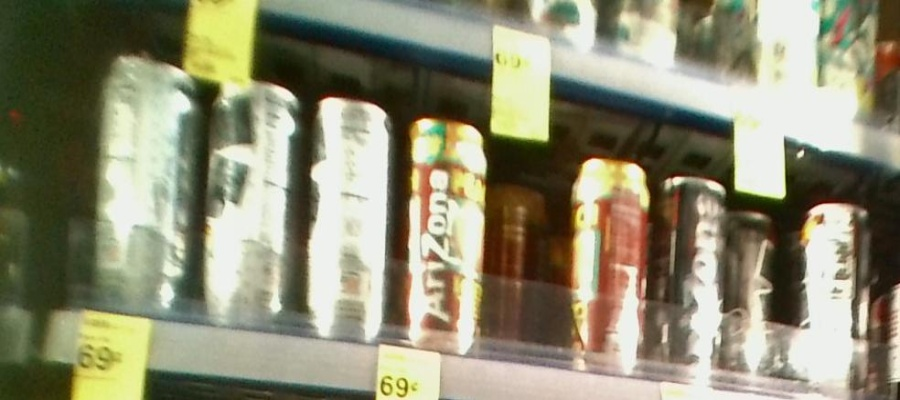bottle: (91, 51, 197, 319), (202, 56, 302, 324), (304, 73, 393, 336), (397, 106, 490, 348), (569, 153, 648, 368), (798, 195, 868, 391), (659, 171, 723, 375), (491, 157, 549, 349), (729, 201, 785, 385)
